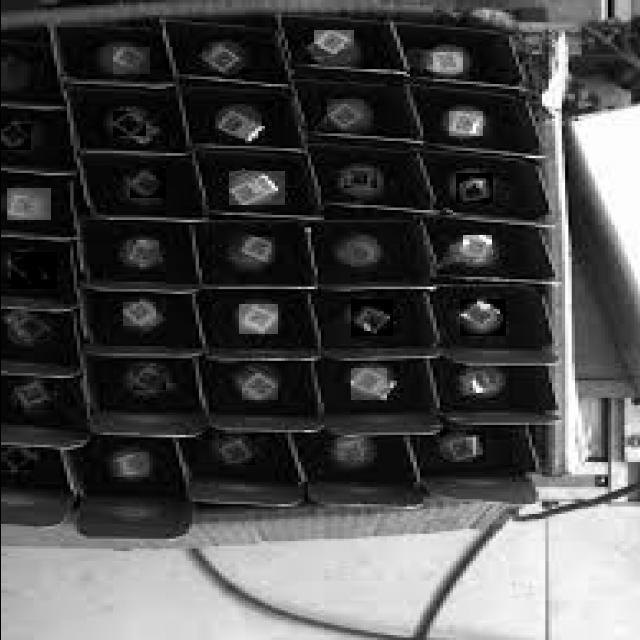Data-Matrix: (456, 366, 512, 402), (228, 171, 284, 205), (459, 299, 505, 336), (10, 252, 56, 289), (350, 299, 392, 336), (439, 430, 485, 462), (6, 188, 50, 220), (326, 99, 363, 131), (238, 304, 277, 334), (214, 109, 254, 138), (350, 368, 386, 400), (218, 433, 254, 465), (205, 45, 244, 74), (455, 173, 492, 203), (241, 371, 277, 400), (313, 30, 353, 56), (129, 170, 165, 198), (112, 47, 149, 74), (16, 383, 53, 410), (448, 111, 482, 136), (241, 237, 274, 262), (112, 111, 145, 136), (116, 452, 148, 477), (132, 366, 165, 390), (122, 302, 155, 326), (0, 124, 30, 150), (126, 240, 158, 264), (0, 448, 33, 470), (462, 235, 491, 259), (343, 168, 376, 188), (17, 317, 46, 339), (432, 52, 462, 72), (346, 242, 376, 262), (336, 438, 363, 460)
